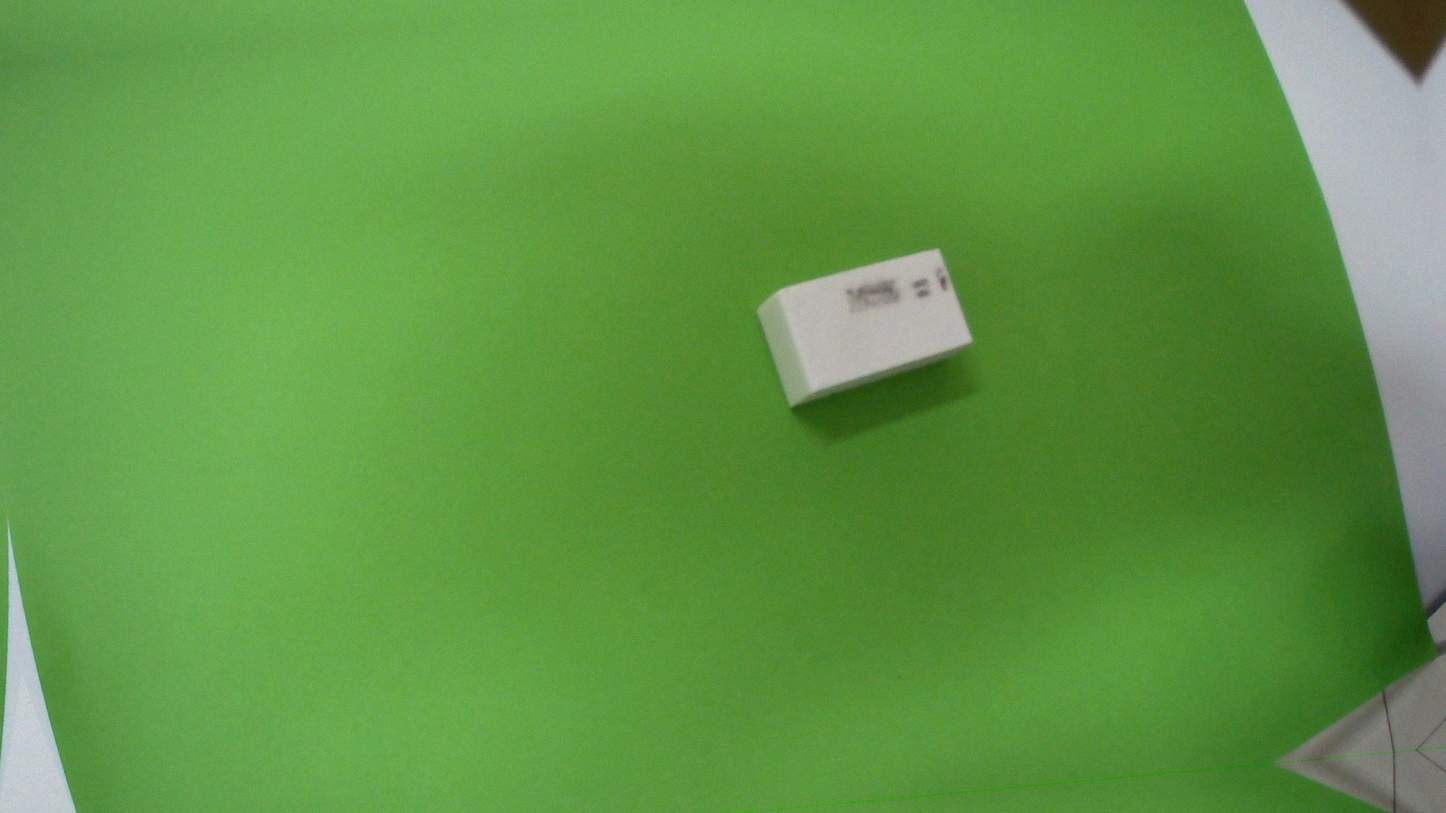gom: (753, 238, 975, 416)
